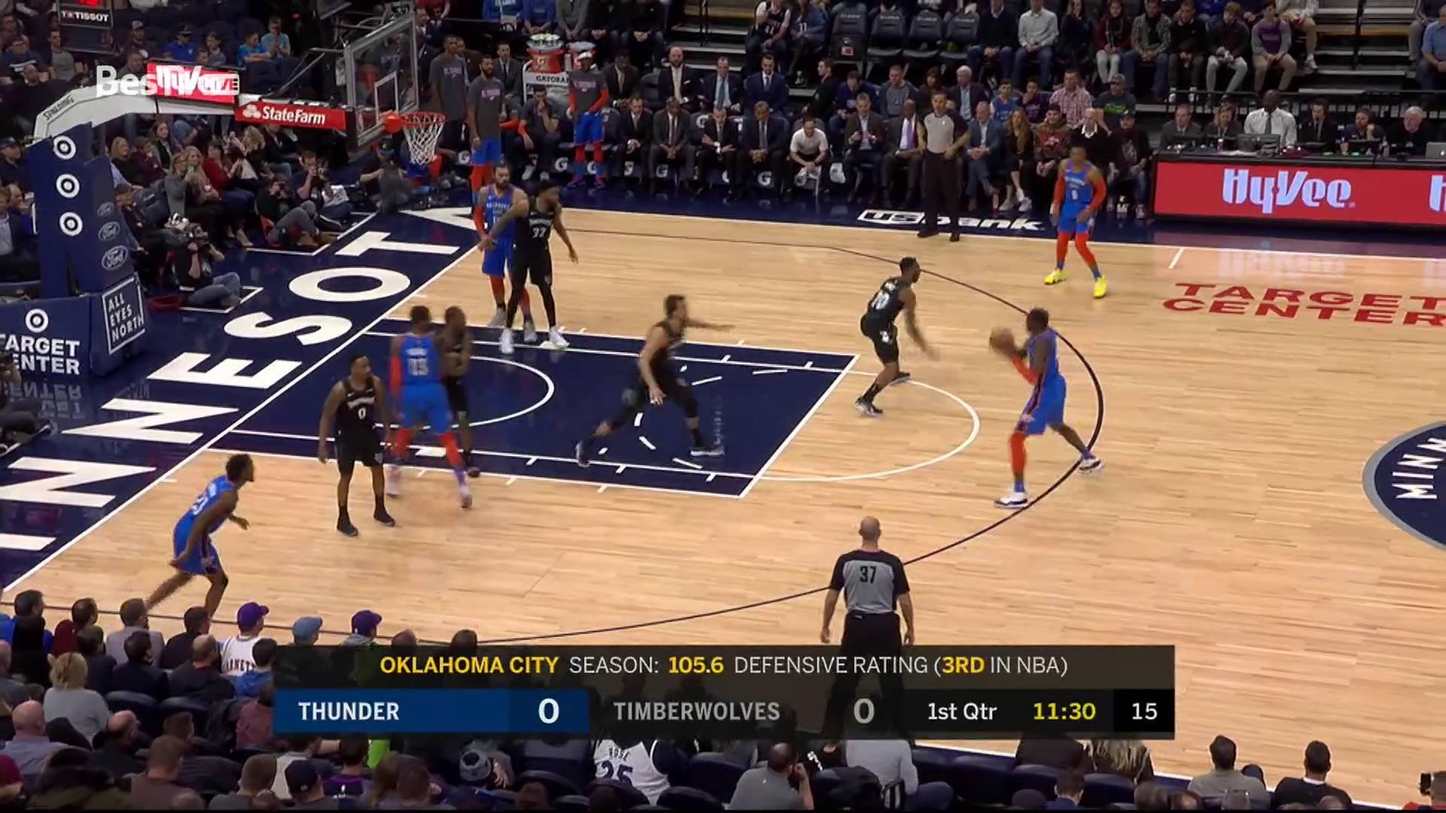basketball: (987, 326, 1015, 353)
